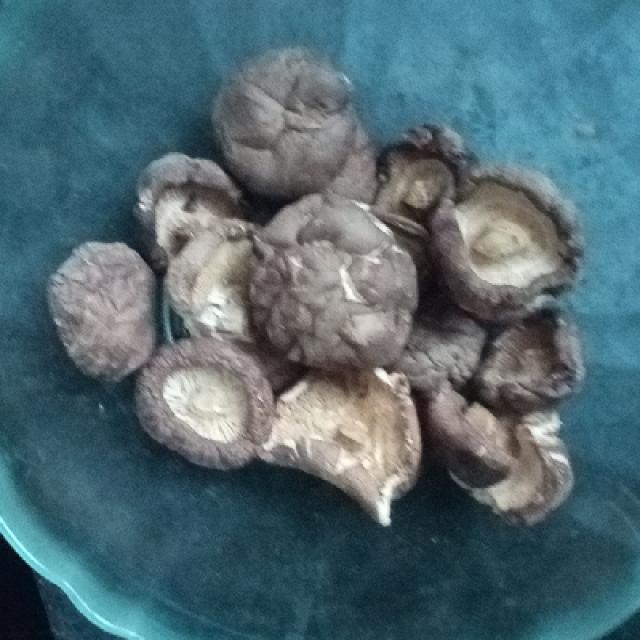Lentinus edodes: (249, 195, 418, 364), (263, 362, 425, 510), (434, 162, 581, 316), (216, 44, 357, 196), (139, 338, 274, 460), (48, 238, 158, 383)
